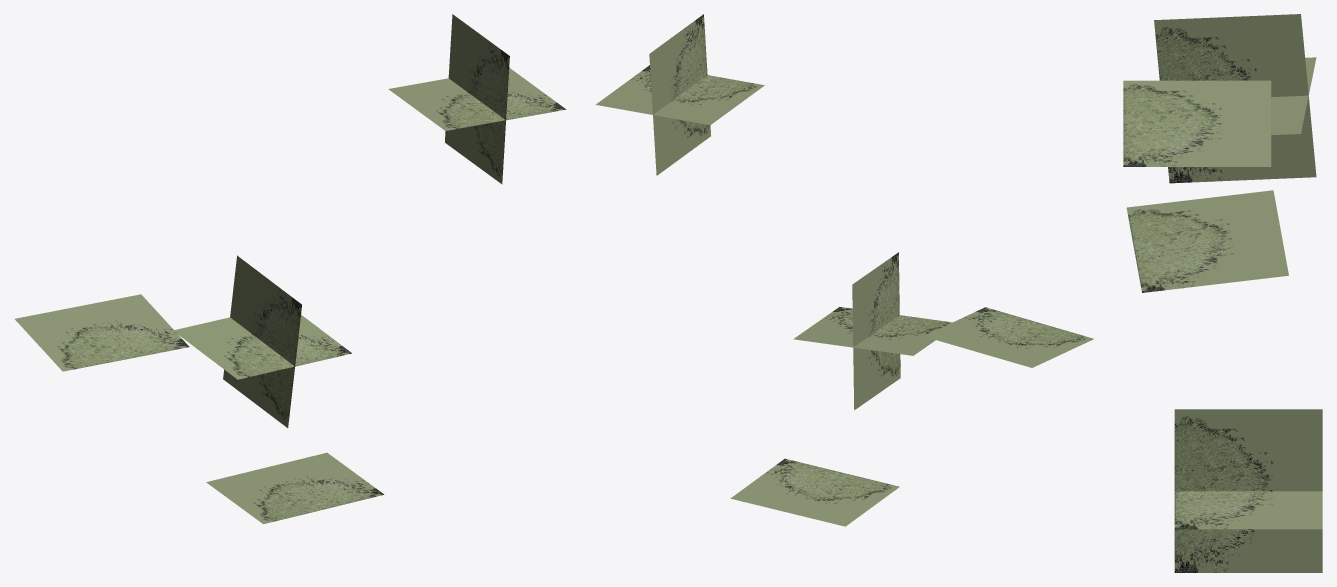
3 renders of one model, left to right at view 1: azimuth 30°, elevation 25°; view 2: azimuth 150°, elevation 25°; view 3: azimuth 270°, elevation 25°, orthographic. The views are drawn at different scales.
Visible parts, largest first — view 1: sageBrush.jpg__; view 2: sageBrush.jpg__; view 3: sageBrush.jpg__.
Boxes of the visible parts, bbox=[...] form: sageBrush.jpg__: bbox=[15, 14, 566, 524]; sageBrush.jpg__: bbox=[595, 14, 1093, 526]; sageBrush.jpg__: bbox=[1123, 14, 1322, 572].
Size of the model in its own units: 15.62 by 15.08 by 4.31.
1 material, 1 textured.
